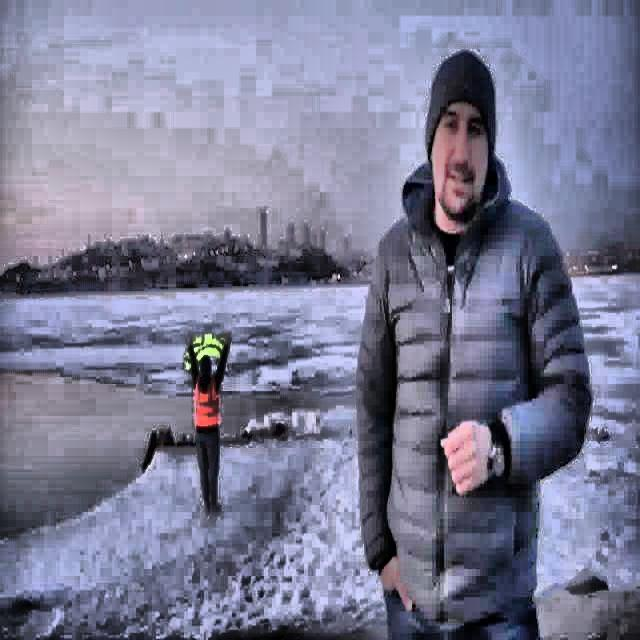safety_jacket: (184, 333, 232, 372), (193, 374, 220, 430)
